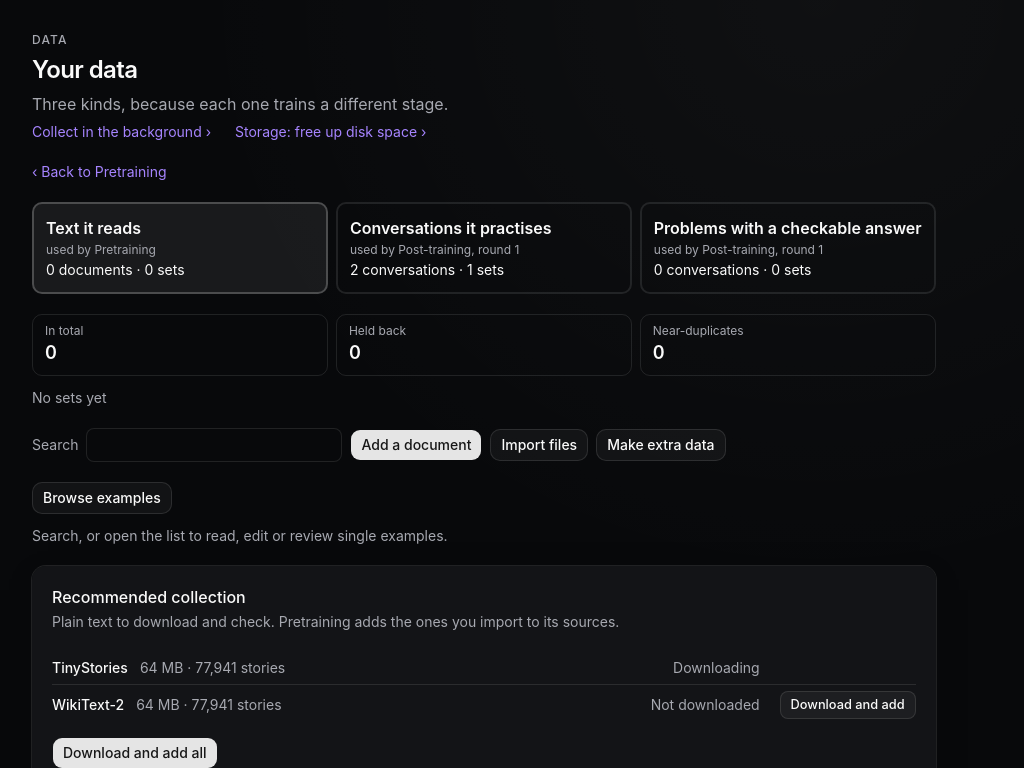
Your data page › a text row shows its first line beside its document, since the document alone does not tell rows apart
Click the button "Browse examples": (102, 498) [32,482,172,514]
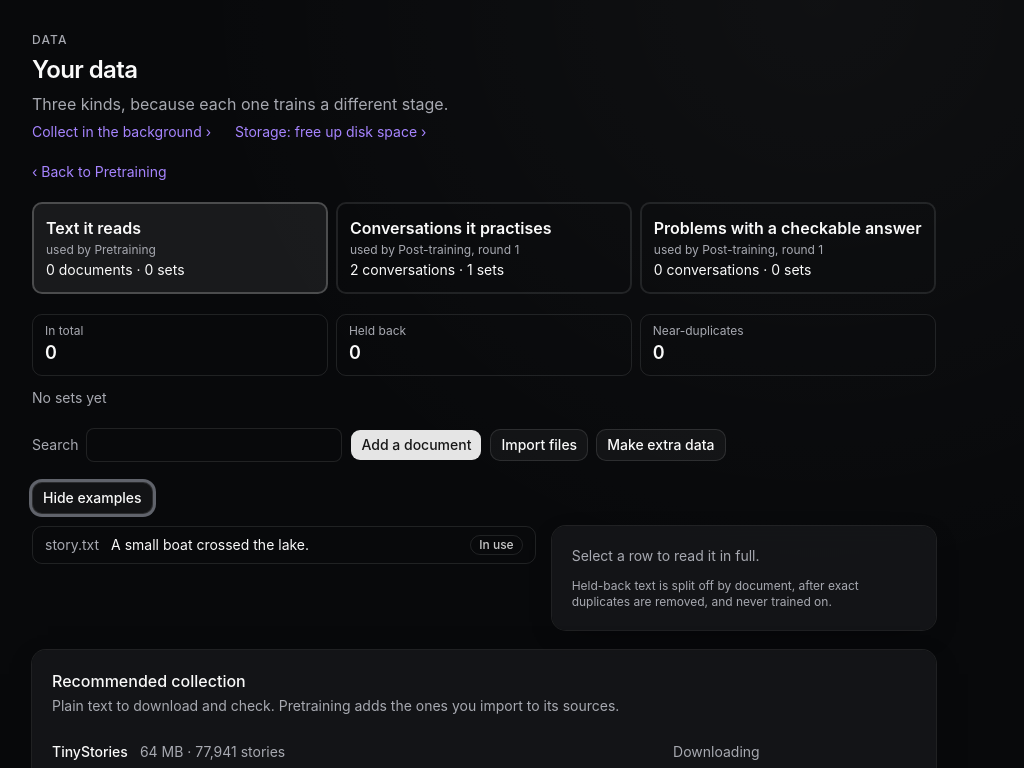
Expected: the text "A small boat crossed the lake." is shown, [111,536,309,553]
Expected: the list item with test id "row-t1" shows "story.txt", [45,536,99,553]
